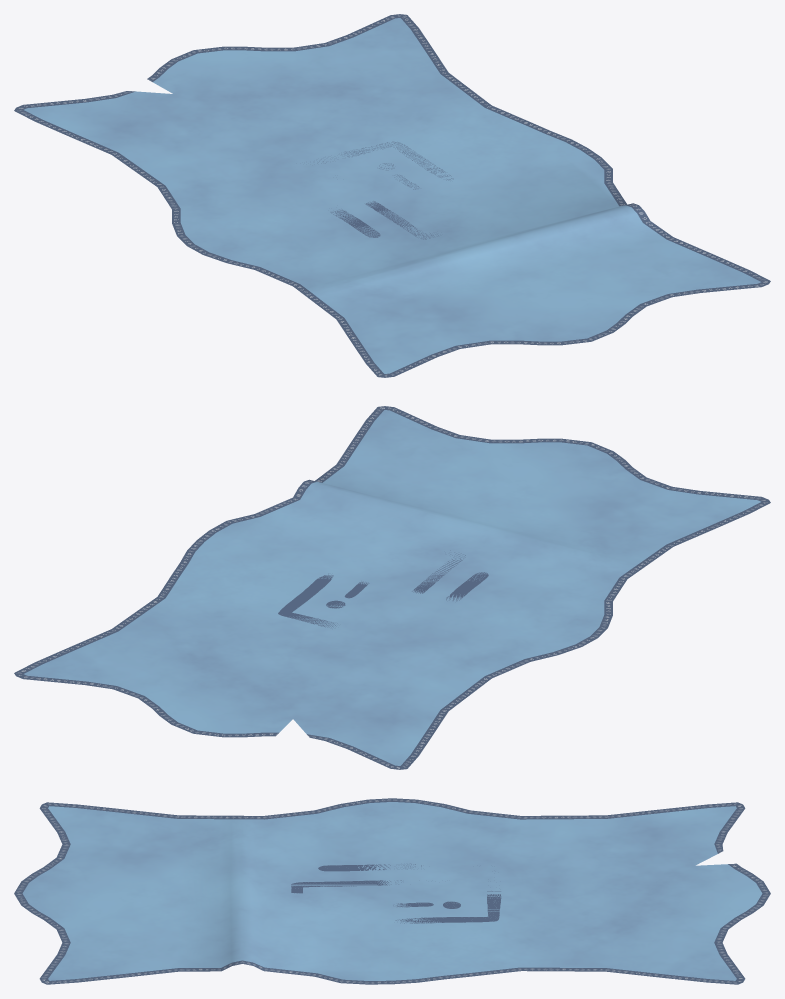
File: Teppich_04.fbx
3 views of the same model, one above another, from view 1: azimuth 30°, elevation 25°; view 2: azimuth 150°, elevation 25°; view 3: azimuth 270°, elevation 25° (orthographic). The views are drawn at different scales.
Visible parts, largest first — view 1: Teppich_04; view 2: Teppich_04; view 3: Teppich_04.
Boxes of the visible parts, bbox=[...] form: Teppich_04: bbox=[14, 14, 770, 377]; Teppich_04: bbox=[14, 406, 770, 769]; Teppich_04: bbox=[14, 798, 770, 984].
Size of the model in its own units: 2.15 by 0.0397 by 3.68.
